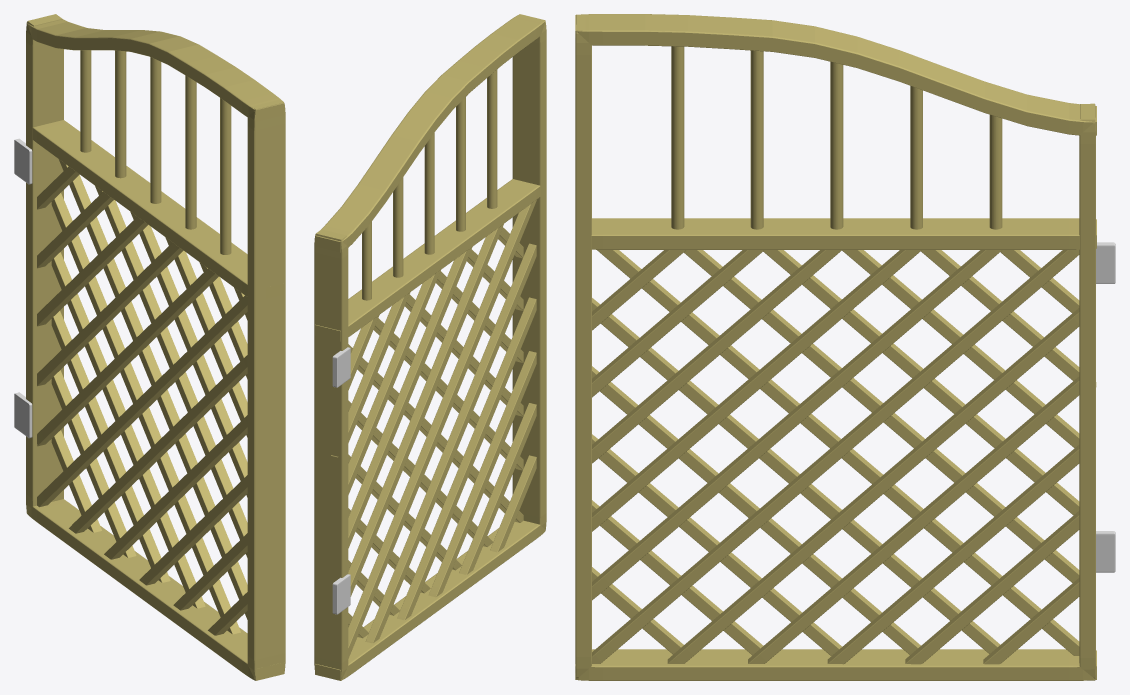
The model's file is patio gate.fbx.
3 renders of one model, left to right at view 1: azimuth 30°, elevation 25°; view 2: azimuth 150°, elevation 25°; view 3: azimuth 270°, elevation 25°, orthographic. The views are drawn at different scales.
Visible parts, largest first — view 1: Patio gate; view 2: Patio gate; view 3: Patio gate.
Boxes of the visible parts, x1,y1,x2,y2 form: Patio gate: [14, 14, 285, 680]; Patio gate: [314, 14, 546, 680]; Patio gate: [575, 14, 1115, 680].
Bounding box in the file's own units: 11.61 × 183 × 138.
